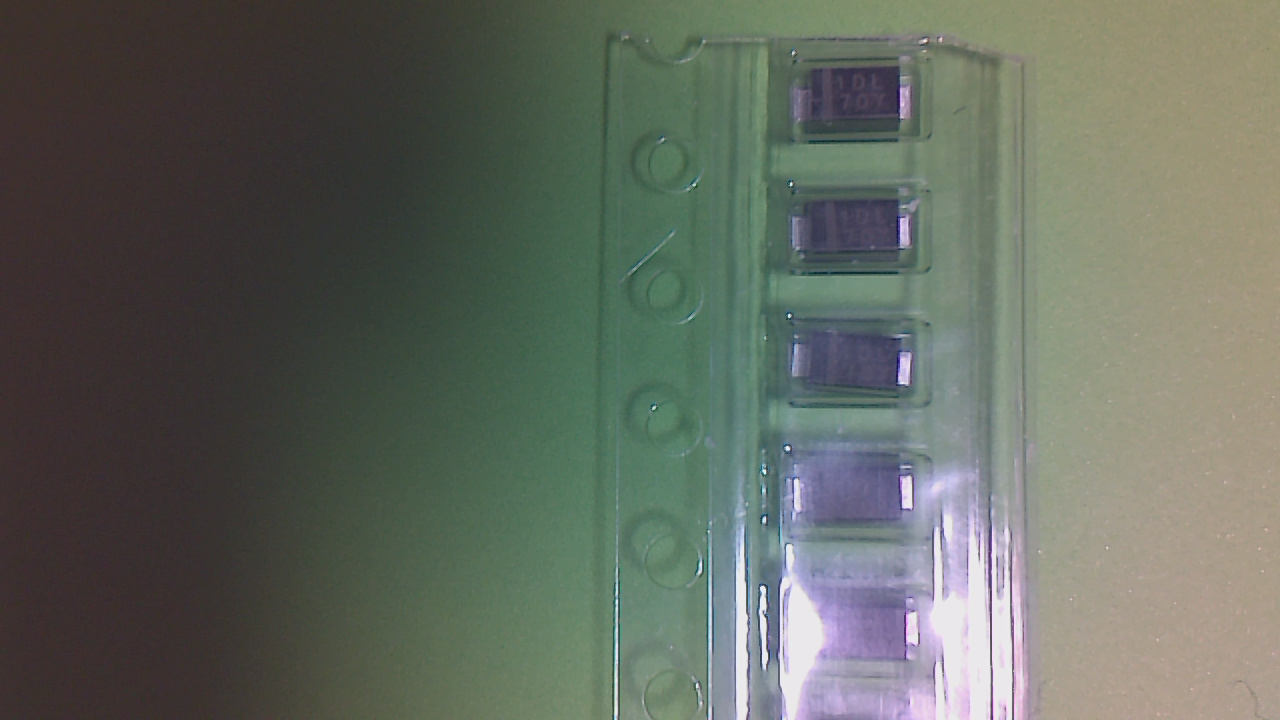Diode: (804, 596, 922, 663), (793, 202, 915, 266), (799, 336, 914, 402), (799, 69, 913, 133), (799, 468, 918, 527)
